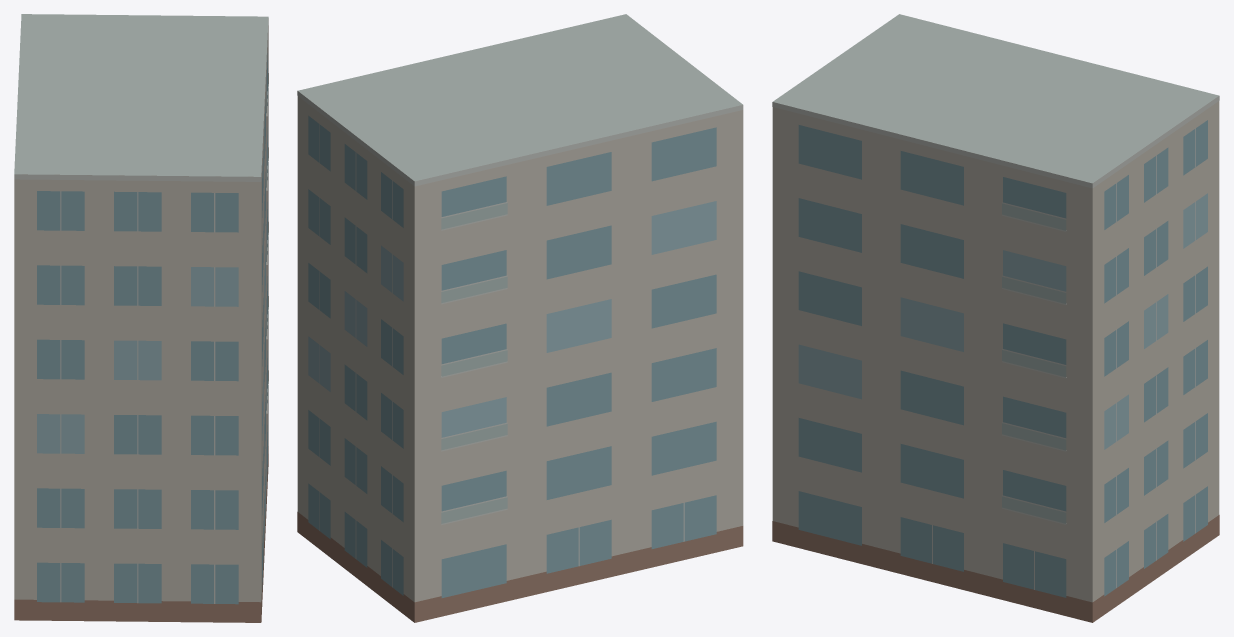
Rendered from survey-upis-33013573.glb.
3 renders of one model, left to right at view 1: azimuth 30°, elevation 25°; view 2: azimuth 150°, elevation 25°; view 3: azimuth 270°, elevation 25°, orthographic.
Parts seen in each view (by area): view 1: survey-upis-33013573.tmp; view 2: survey-upis-33013573.tmp; view 3: survey-upis-33013573.tmp.
Part boxes in pixels (x1,y1,x2,y2): survey-upis-33013573.tmp: (14, 14, 268, 622); survey-upis-33013573.tmp: (297, 14, 743, 622); survey-upis-33013573.tmp: (772, 14, 1219, 622).
Size of the model in its own units: 17.62 by 21.3 by 19.64.
